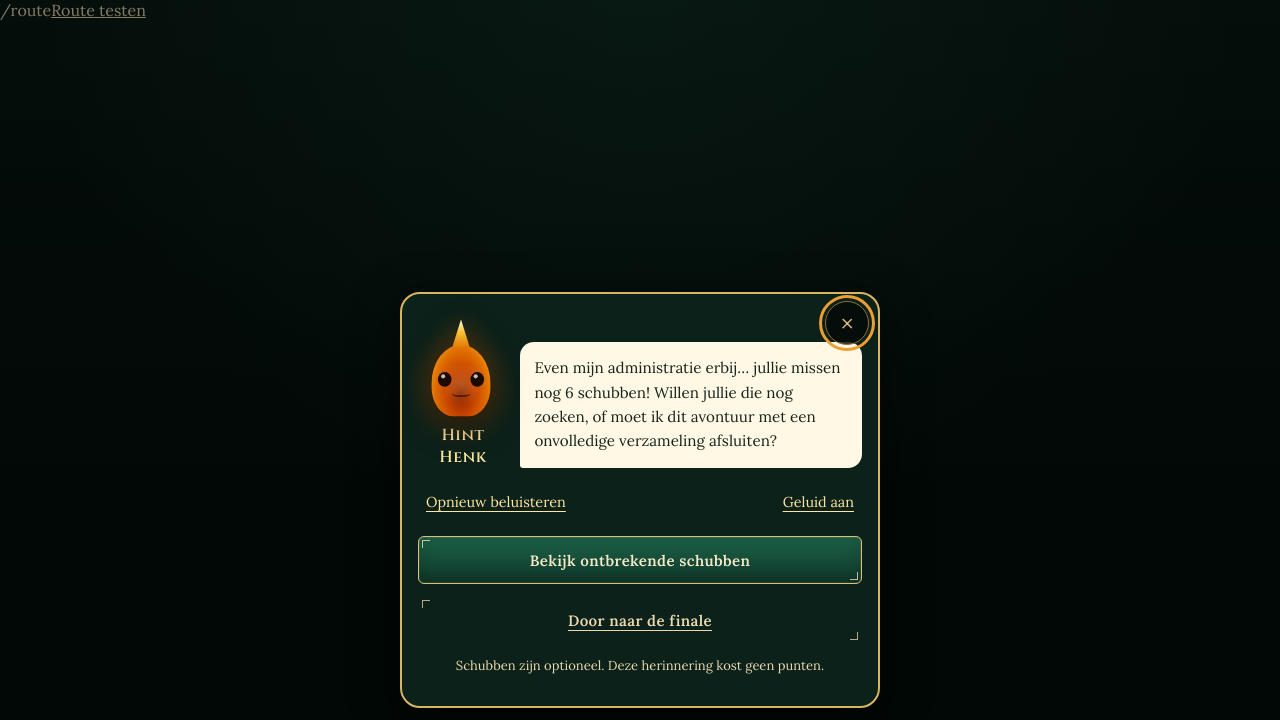
Test: Hint Henk schub reminders › opens the missing-schub overview from the final summary
The width and height of the screenshot is (1280, 720).
Click the button "Bekijk ontbrekende schubben" at (640, 560), box [418,536,862,584]
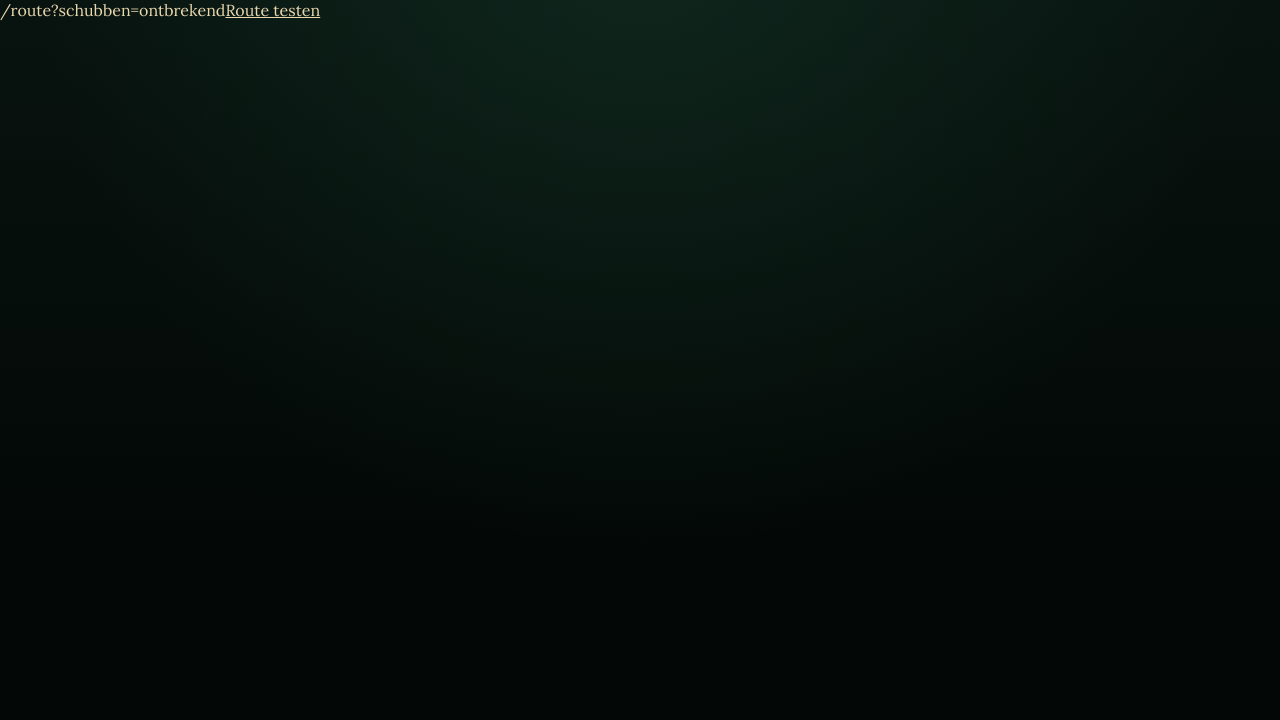
Now the text "/route?schubben=ontbrekend" is shown, box [0,0,225,20]
